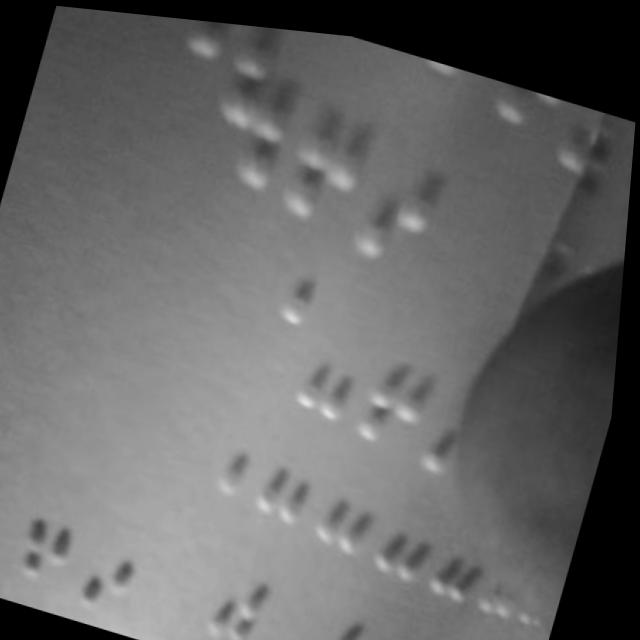braiile: (196, 17, 314, 200), (273, 58, 392, 236), (349, 101, 463, 276), (356, 316, 457, 460), (291, 293, 388, 435), (17, 468, 108, 602), (82, 493, 168, 626), (204, 546, 290, 640), (262, 569, 335, 640), (317, 590, 397, 640)
